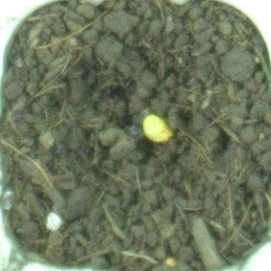pepper seed: (54, 40, 230, 186)
